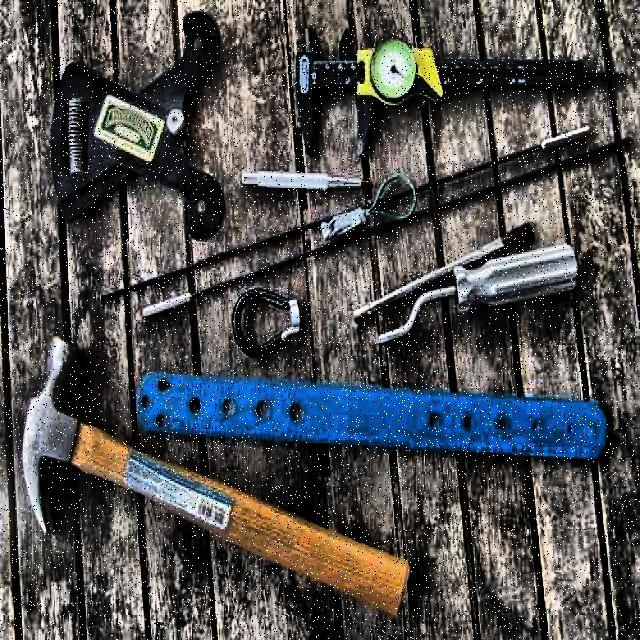hammer: (19, 336, 415, 623)
